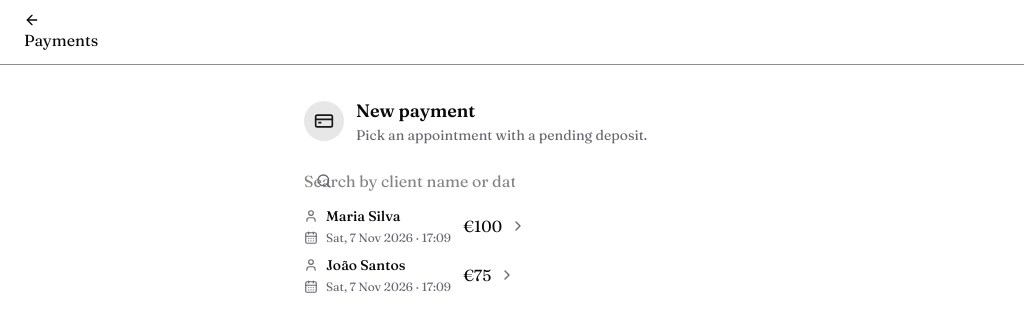
Test case: CreatePaymentIntentPage › filters appointments by search query (client name)
Expected: the text "Maria Silva" is shown, [326, 206, 401, 226]
In the field with placeholder "Search by client name or date…": [410, 181] box [304, 169, 515, 193], type "João"
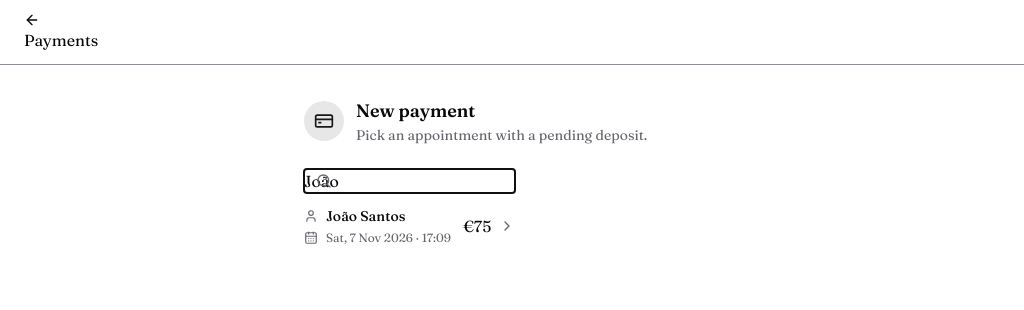
Expected: the text "João Santos" is shown, [326, 206, 405, 226]
Now the button "Maria Silva" is gone
